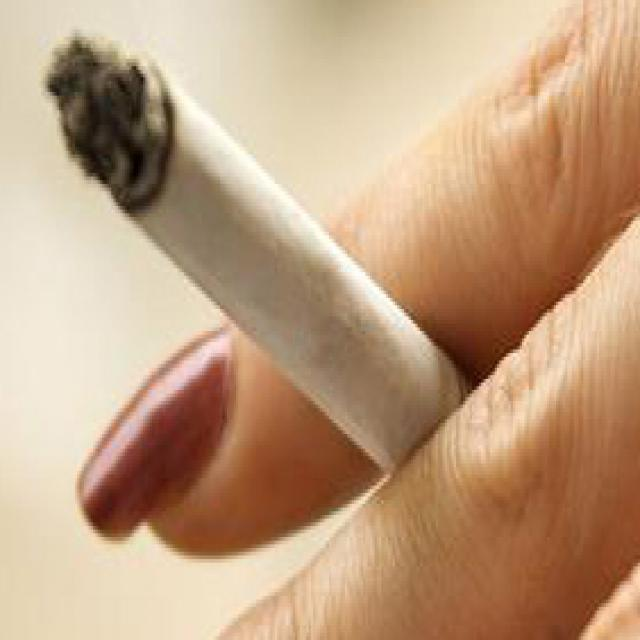smoking: (44, 31, 475, 479)
